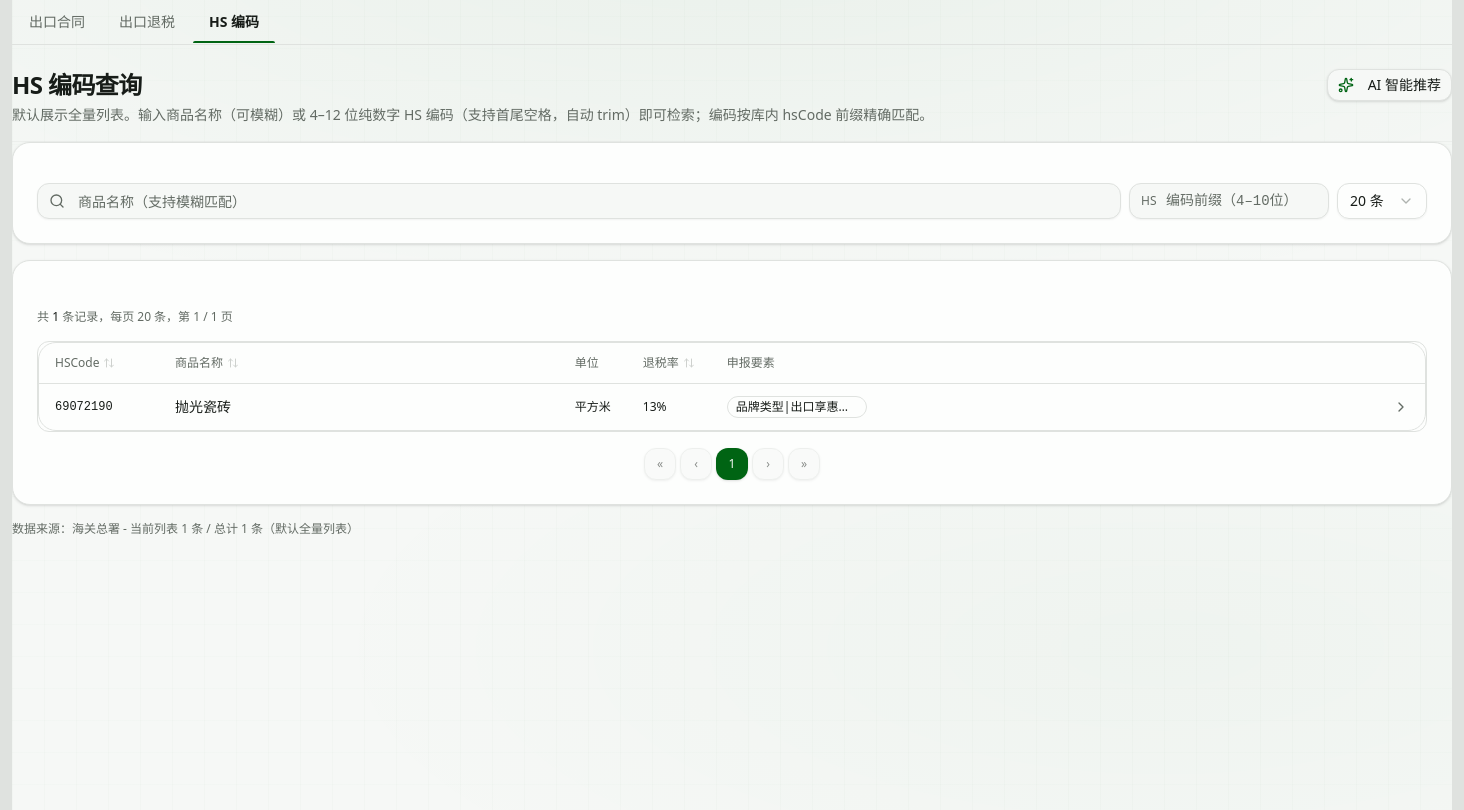
it: HsCodesPage › 详情页将监管条件与检验检疫拆分为可视化条目
What coordinates should you click on to do the following:
click the cell "抛光瓷砖"
I would click on:
 (203, 406)
Its box is [159, 383, 559, 430].
(page scrolled)
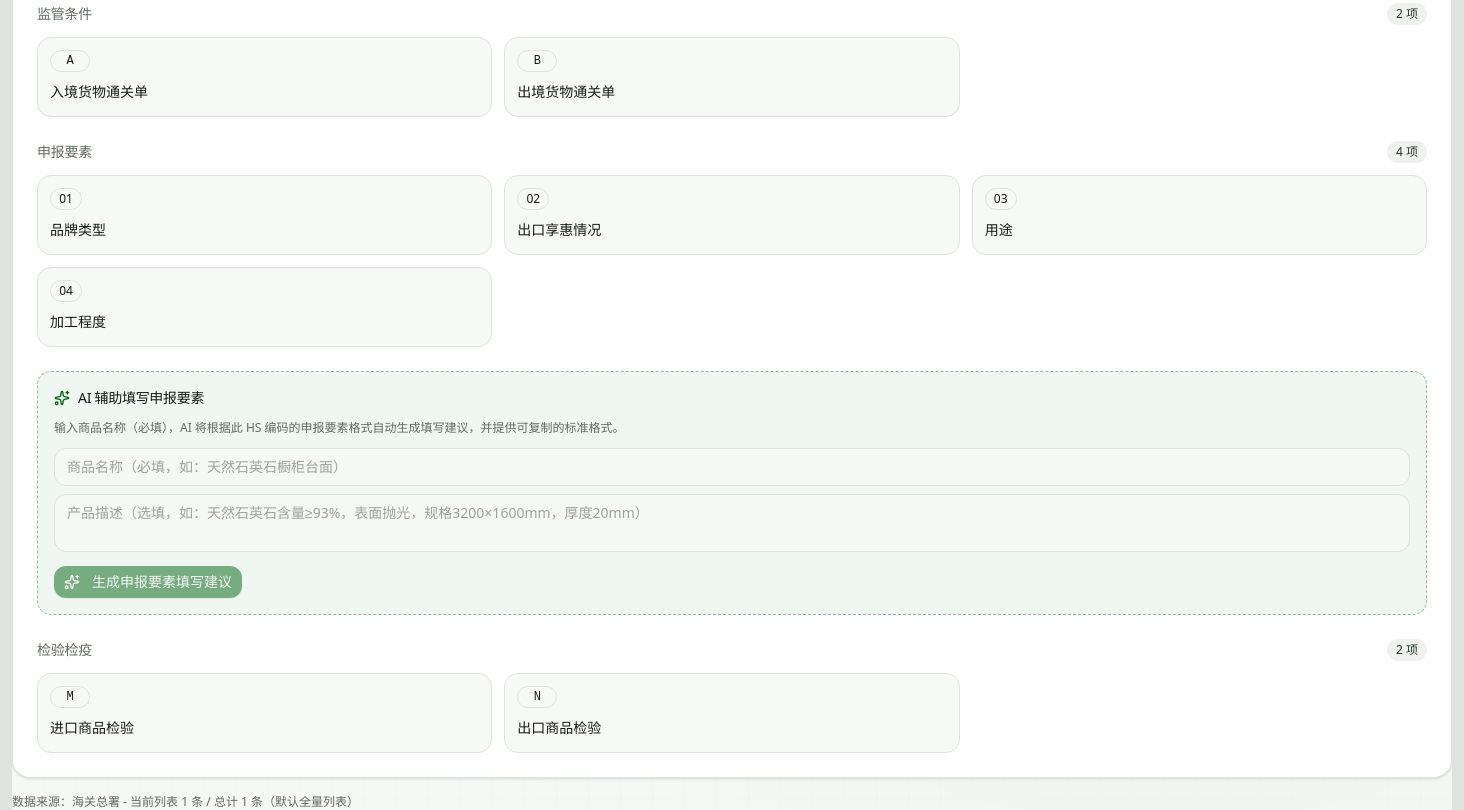
Check: the heading "监管条件" is shown, box [37, 4, 92, 24]
Check: the text "入境货物通关单" is shown, box [50, 82, 148, 101]
Check: the text "出境货物通关单" is shown, box [517, 82, 615, 101]
